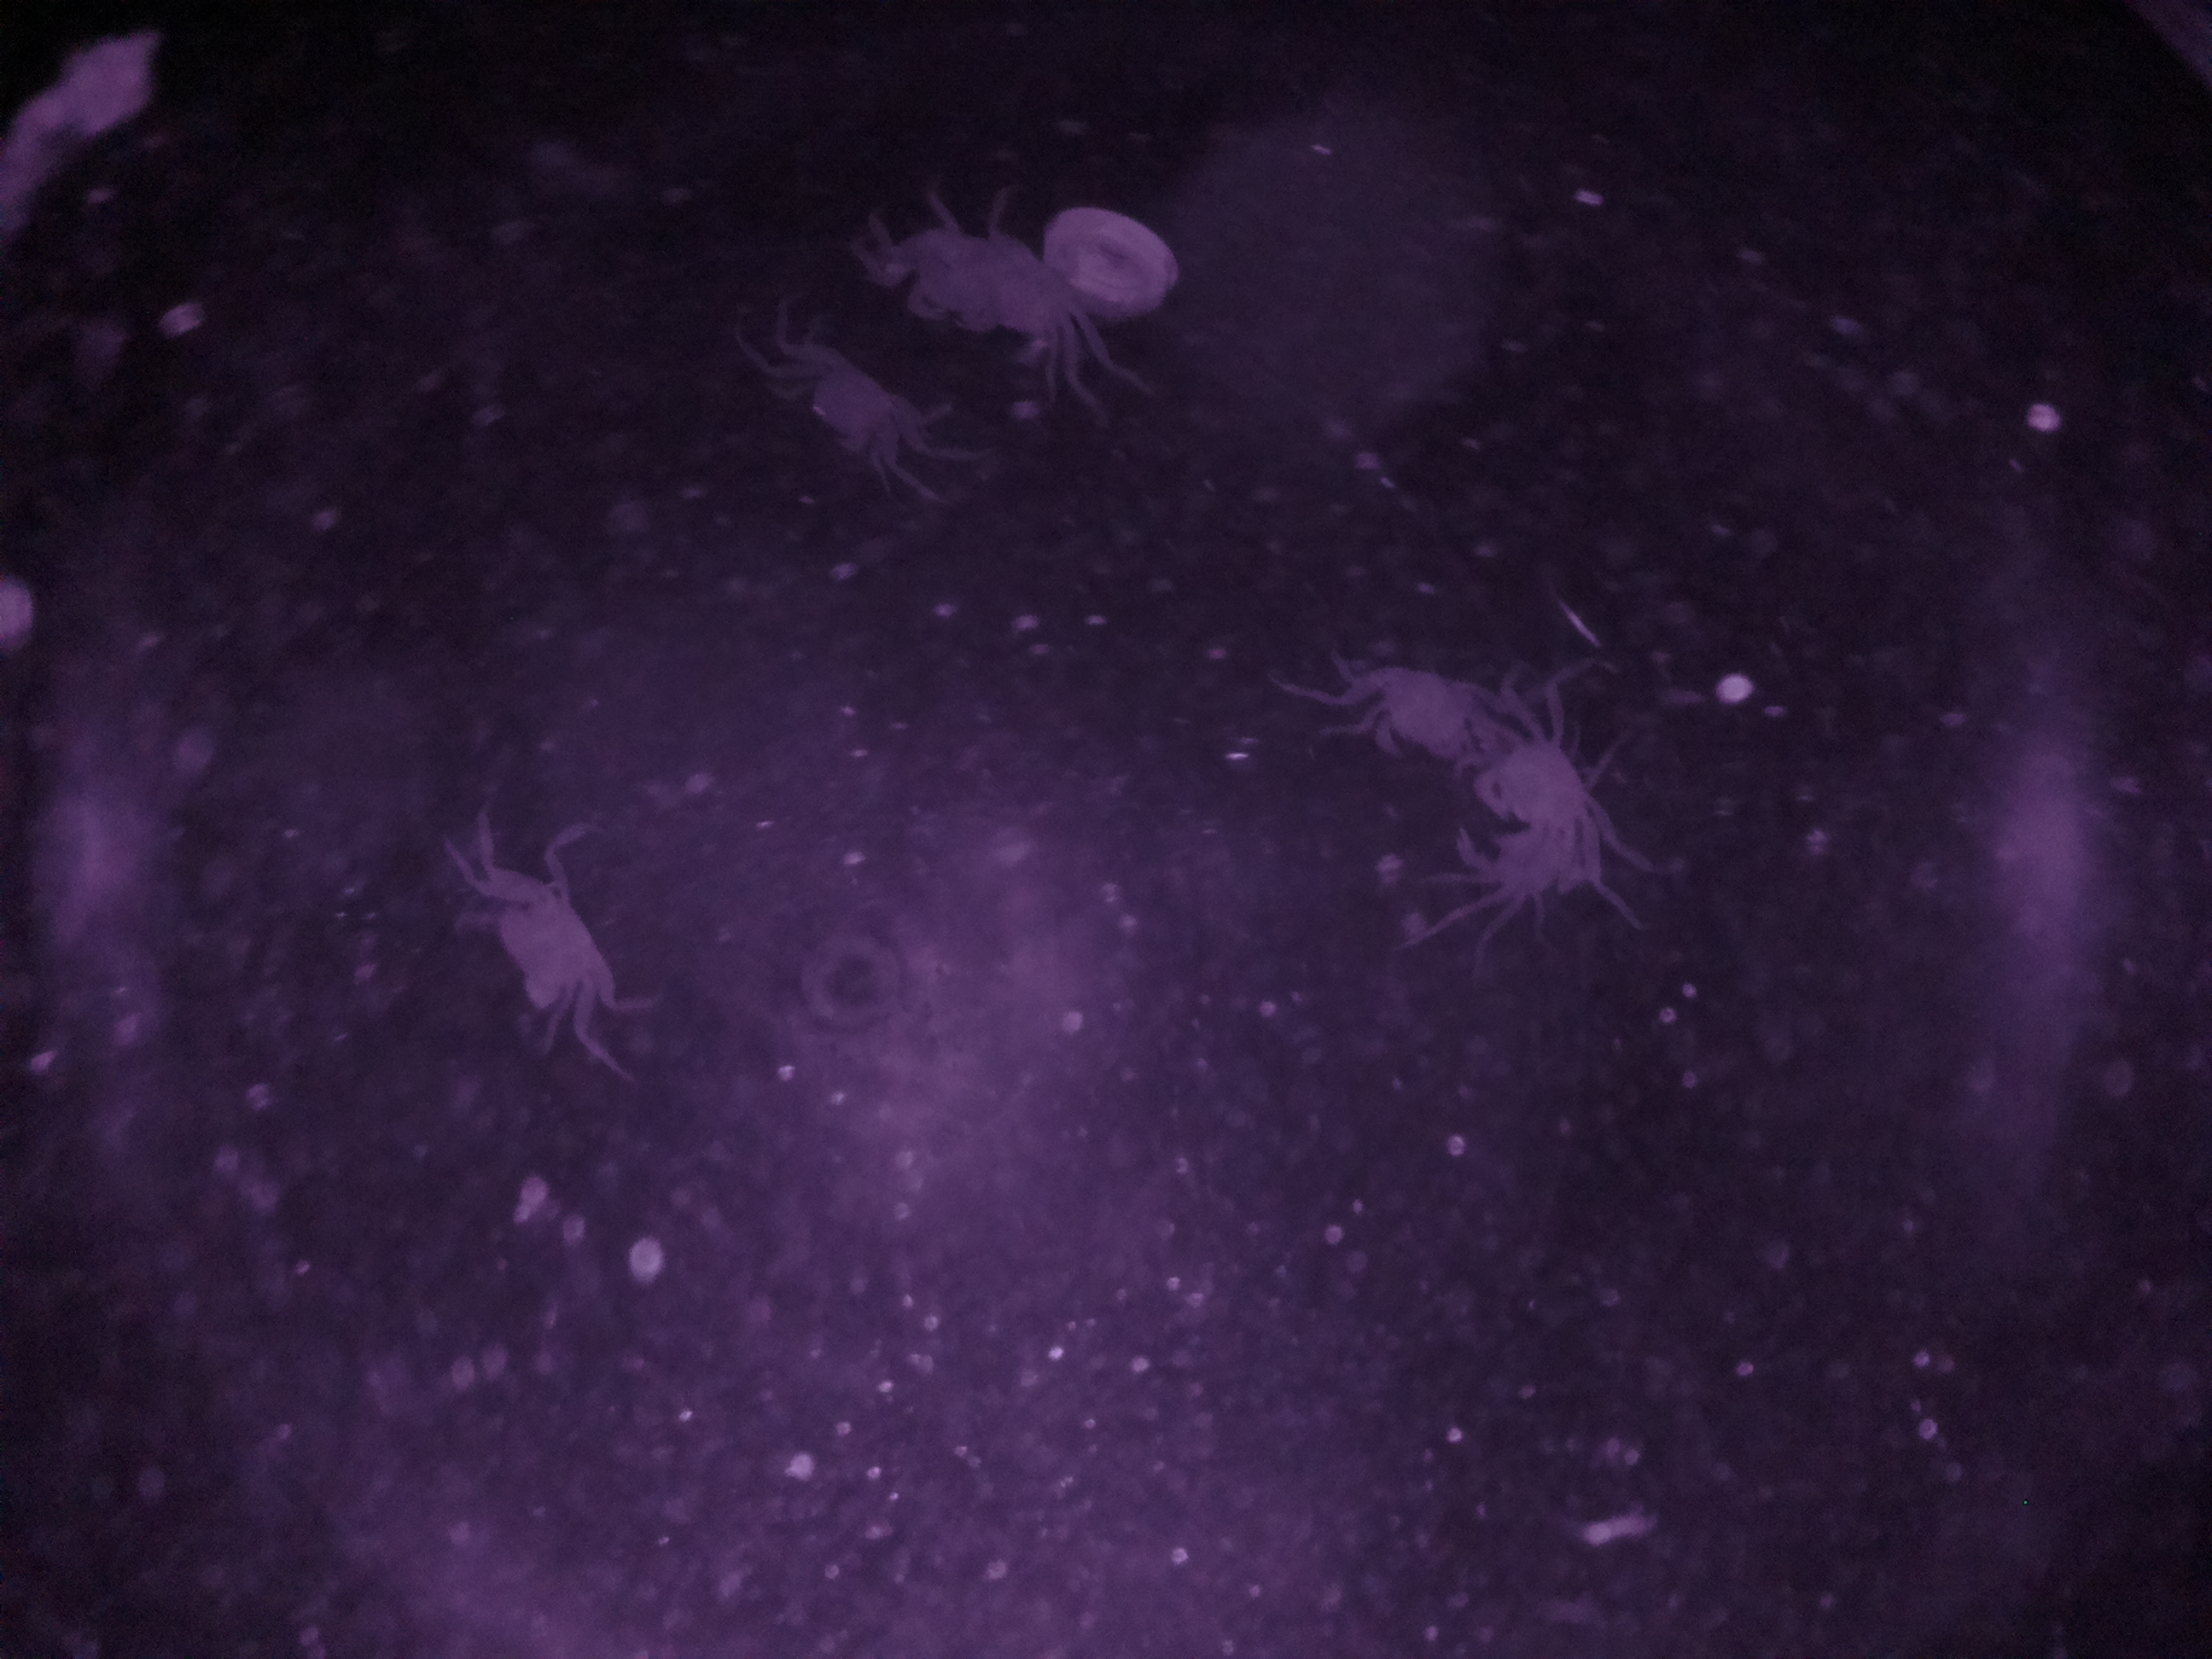Crab: (462, 819, 644, 1054), (770, 324, 963, 502)
